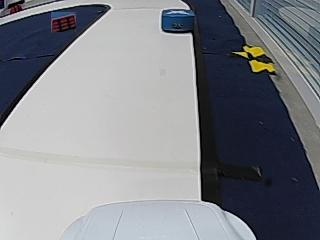prop: (162, 9, 194, 33)
